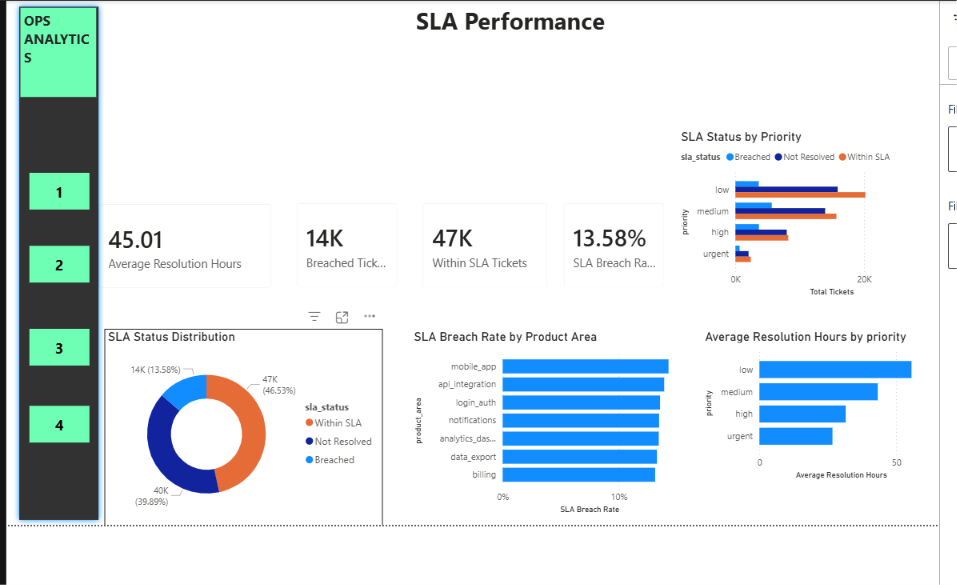

The dashboard page shown, as its layout file describes it:
{"tool":"powerbi","page":{"name":"Page 2","canvas":[1280,720],"ordinal":1},"visuals":[{"type":"textbox","box":[9.6,0,1270.7,74.1],"z":0},{"type":"donutChart","title":"SLA Status Distribution","fields":{"Category":["support_tickets_cleaned.sla_status"],"Y":["support_tickets_cleaned.Total Tickets"]},"box":[134.5,450.1,381.5,270.3],"z":1000},{"type":"clusteredBarChart","title":"SLA Breach Rate by Product Area","fields":{"Category":["support_tickets_cleaned.product_area"],"Y":["support_tickets_cleaned.SLA Breach Rate"]},"box":[554.4,450.1,382.8,259.3],"z":2000},{"type":"clusteredBarChart","title":"SLA Status by Priority","fields":{"Category":["support_tickets_cleaned.priority"],"Y":["support_tickets_cleaned.Total Tickets"],"Series":["support_tickets_cleaned.sla_status"]},"box":[920.8,175.6,359.5,234.6],"z":3000},{"type":"clusteredBarChart","fields":{"Category":["support_tickets_cleaned.priority"],"Y":["support_tickets_cleaned.Average Resolution Hours"]},"box":[953.7,450.1,317,211.3],"z":4000},{"type":"cardVisual","fields":{"Data":["support_tickets_cleaned.SLA Breach Rate"]},"box":[747.9,260.7,172.9,149.6],"z":4001},{"type":"cardVisual","fields":{"Data":["support_tickets_cleaned.Within SLA Tickets"]},"box":[554.4,260.7,205.8,149.6],"z":4002},{"type":"cardVisual","fields":{"Data":["support_tickets_cleaned.Breached Tickets"]},"box":[381.5,260.7,172.9,149.6],"z":4003},{"type":"cardVisual","fields":{"Data":["support_tickets_cleaned.Average Resolution Hours"]},"box":[109.8,262.1,271.7,149.6],"z":4004},{"type":"shape","box":[9.6,0,124.9,720.4],"z":4005},{"type":"actionButton","box":[31.6,236,82.3,50.8],"z":4006},{"type":"actionButton","box":[31.6,336.2,82.3,50.8],"z":4007},{"type":"actionButton","box":[31.6,450.1,82.3,50.8],"z":4008},{"type":"actionButton","box":[31.6,555.7,82.3,50.8],"z":4009},{"type":"textbox","box":[19.2,9.6,104.3,122.1],"z":4010}]}

Visuals, with their boxes on the page's 1280x720 design canvas (x1, y1, x2, y2). These are canvas units, not pixel positions in the 957x585 screenshot, which may show the page scaled, cropped or inside an application window:
textbox: locate(10, 0, 1280, 74)
"SLA Status Distribution" donutChart: locate(134, 450, 516, 720)
"SLA Breach Rate by Product Area" clusteredBarChart: locate(554, 450, 937, 709)
"SLA Status by Priority" clusteredBarChart: locate(921, 176, 1280, 410)
clusteredBarChart - support_tickets_cleaned.priority x support_tickets_cleaned.Average Resolution Hours: locate(954, 450, 1271, 661)
cardVisual - support_tickets_cleaned.SLA Breach Rate: locate(748, 261, 921, 410)
cardVisual - support_tickets_cleaned.Within SLA Tickets: locate(554, 261, 760, 410)
cardVisual - support_tickets_cleaned.Breached Tickets: locate(382, 261, 554, 410)
cardVisual - support_tickets_cleaned.Average Resolution Hours: locate(110, 262, 382, 412)
shape: locate(10, 0, 134, 720)
actionButton: locate(32, 236, 114, 287)
actionButton: locate(32, 336, 114, 387)
actionButton: locate(32, 450, 114, 501)
actionButton: locate(32, 556, 114, 606)
textbox: locate(19, 10, 124, 132)
